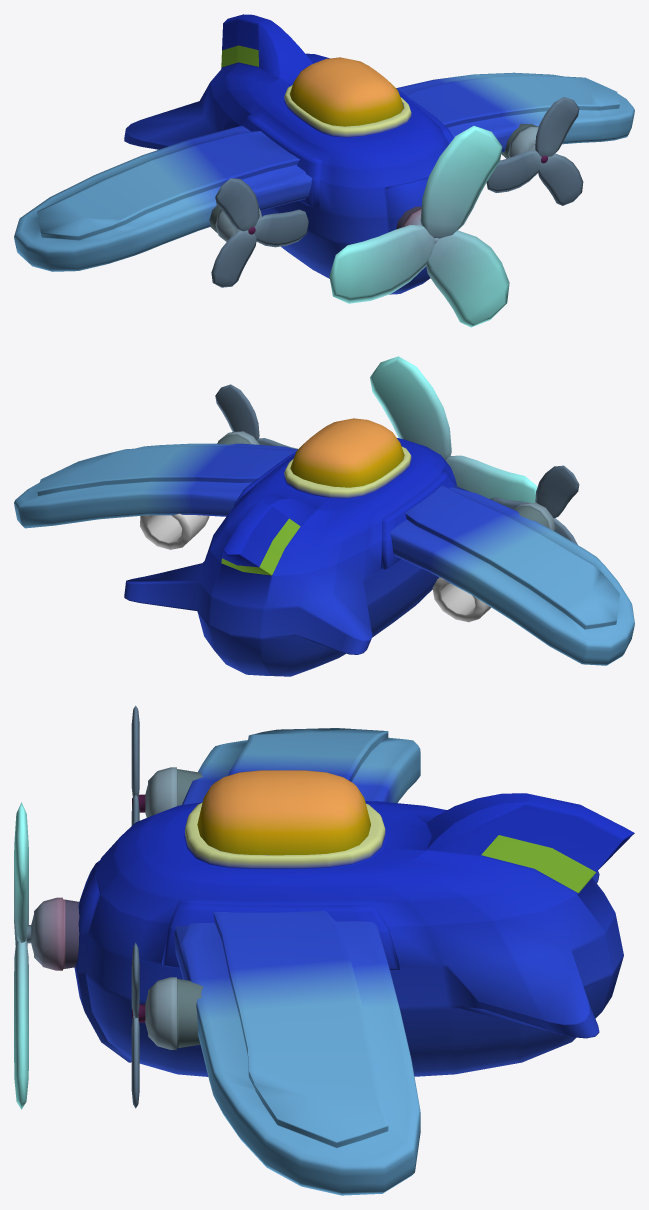
The model's file is самолет 2.fbx.
3 renders of one model, top to bottom at view 1: azimuth 30°, elevation 25°; view 2: azimuth 150°, elevation 25°; view 3: azimuth 270°, elevation 25°, orthographic. The views are drawn at different scales.
Parts seen in each view (by area): view 1: Cube.004, Cube.005, Cube.002, Cube.001, Cube.006, Cube.003, Cylinder.006; view 2: Cube.005, Cube.004, Cube.002, Cube.001, Cylinder.001, Cube.006, Cube.003, Cylinder.006; view 3: Cube.005, Cube.004, Cube.001, Cylinder.006, Cube.002, Cylinder.002, Cube.003, Cube.006.
Boxes of the visible parts, x1,y1,x2,y2 form: Cube.004: (14, 72, 634, 271); Cube.005: (124, 14, 453, 294); Cube.002: (329, 126, 509, 327); Cube.001: (289, 57, 403, 126); Cube.006: (211, 178, 308, 287); Cube.003: (486, 97, 583, 205); Cylinder.006: (209, 123, 547, 241); Cube.005: (124, 438, 456, 676); Cube.004: (14, 443, 634, 665); Cube.002: (370, 356, 537, 502); Cube.001: (290, 418, 404, 487); Cylinder.001: (140, 513, 491, 622); Cube.006: (490, 465, 579, 544); Cube.003: (215, 384, 297, 449); Cylinder.006: (217, 431, 555, 531); Cube.005: (74, 793, 634, 1076); Cube.004: (174, 728, 420, 1195); Cube.001: (197, 770, 370, 855); Cylinder.006: (132, 767, 203, 1049); Cube.002: (14, 802, 28, 1109); Cylinder.002: (26, 897, 79, 970); Cube.003: (131, 942, 139, 1108); Cube.006: (131, 705, 139, 825).
Bounding box in the file's own units: 642 × 205 × 391.
